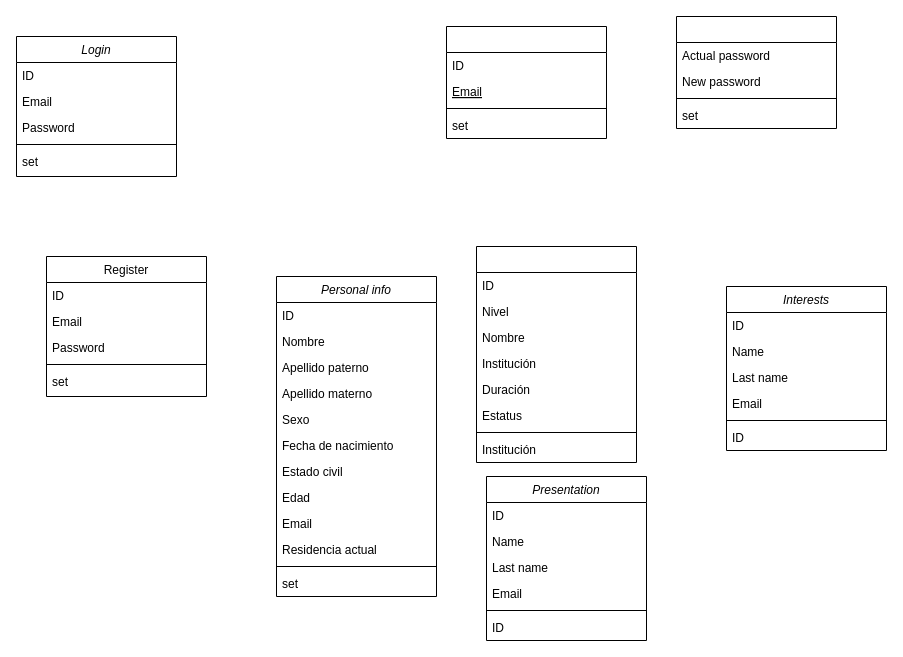
This 903x657 diagram has some shape labels left out. Each missing label, with the box of its shape:
Academic info: (476, 246, 636, 462)
Get password: (446, 26, 606, 138)
Update password: (676, 16, 836, 128)
